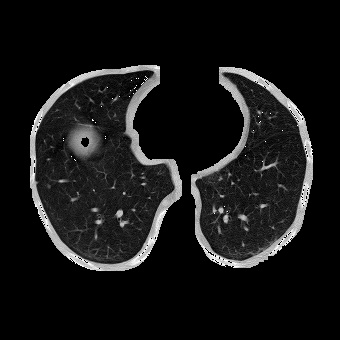PN: (46, 184, 50, 188)
